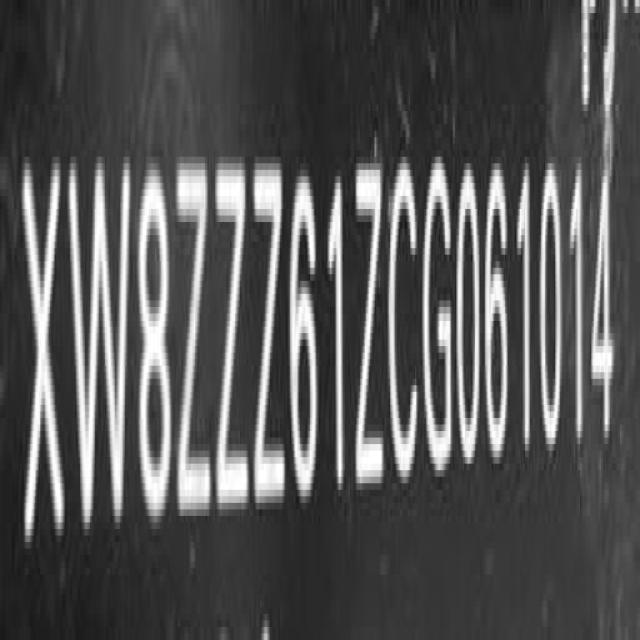0: (541, 156, 567, 465), (458, 160, 482, 477)
1: (326, 156, 346, 510), (568, 155, 586, 457), (518, 154, 533, 473)
4: (591, 154, 622, 455)
6: (291, 155, 324, 517), (485, 160, 511, 474)
8: (136, 155, 172, 540)
C: (390, 151, 420, 496)
G: (424, 153, 455, 488)
W: (70, 145, 132, 553)
X: (21, 148, 64, 568)
Z: (178, 152, 212, 536), (214, 148, 248, 526), (252, 150, 286, 521), (354, 150, 387, 503)
